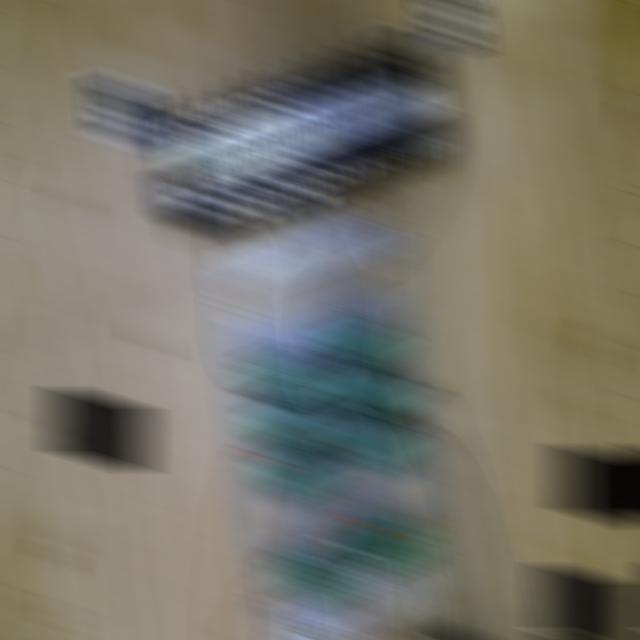Phillips_Block: (135, 32, 467, 227)
Terminal_1: (271, 544, 363, 607), (344, 516, 432, 579)
Terminal_2: (252, 442, 339, 503), (246, 393, 333, 454), (328, 362, 413, 423), (335, 413, 418, 473), (322, 312, 405, 371)
